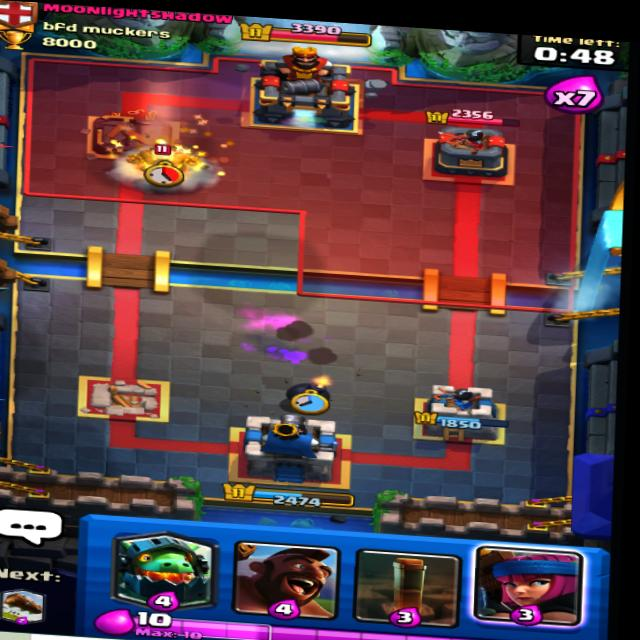monk: (124, 136, 205, 183)
